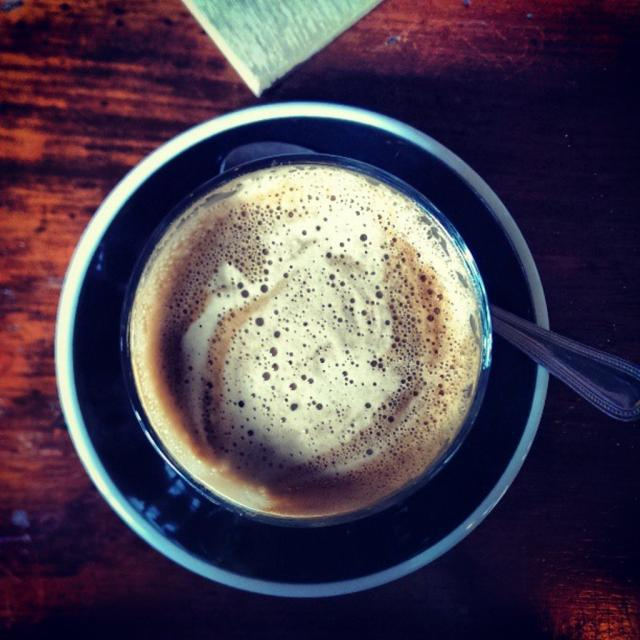Coffee: (132, 159, 482, 518)
